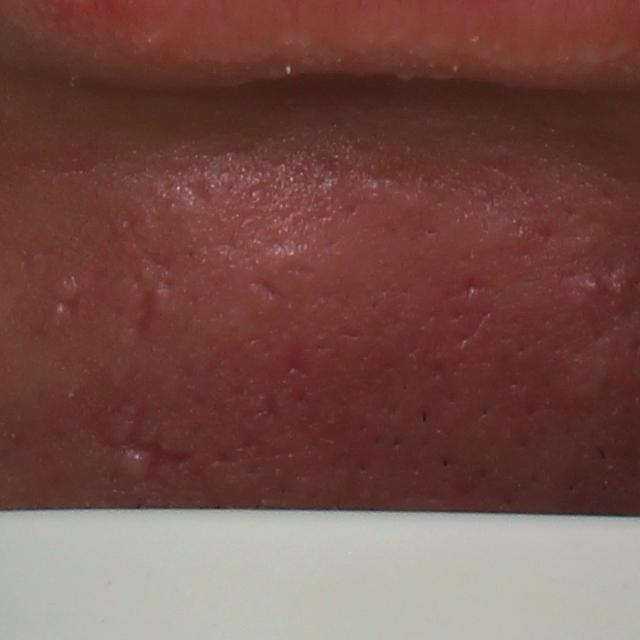atrophic_scar: (91, 389, 197, 487), (132, 279, 157, 343)
hypertrophic_scar: (115, 450, 155, 486), (149, 281, 178, 318), (48, 274, 79, 302), (48, 303, 71, 328)
